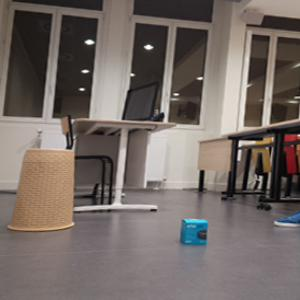medium: (9, 148, 75, 230)
small: (180, 218, 208, 245)
